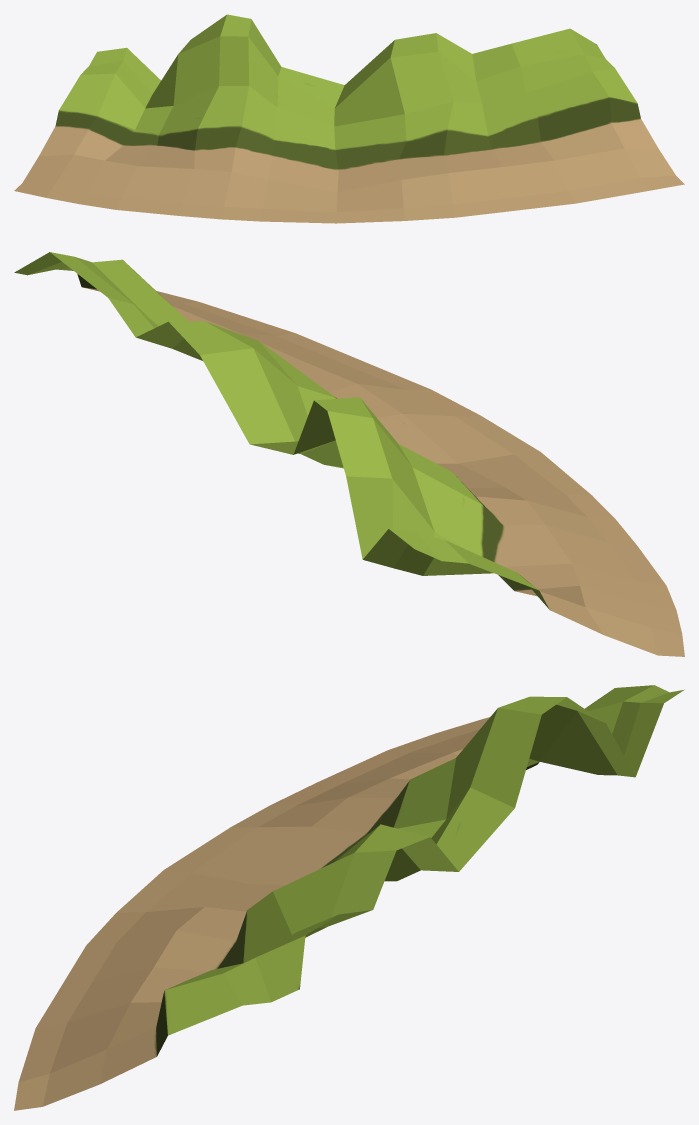
The model's file is planeLeft.fbx.
The picture shows the model from 3 angles, top to bottom: view 1: azimuth 30°, elevation 25°; view 2: azimuth 150°, elevation 25°; view 3: azimuth 270°, elevation 25°; orthographic projection. The views are drawn at different scales.
Visible parts, largest first — view 1: pPlane16; view 2: pPlane16; view 3: pPlane16.
Part boxes in pixels (x1,y1,x2,y2): pPlane16: [14, 14, 684, 223]; pPlane16: [14, 252, 684, 656]; pPlane16: [14, 685, 684, 1110].
Bounding box in the file's own units: 45 × 9.69 × 31.56.
